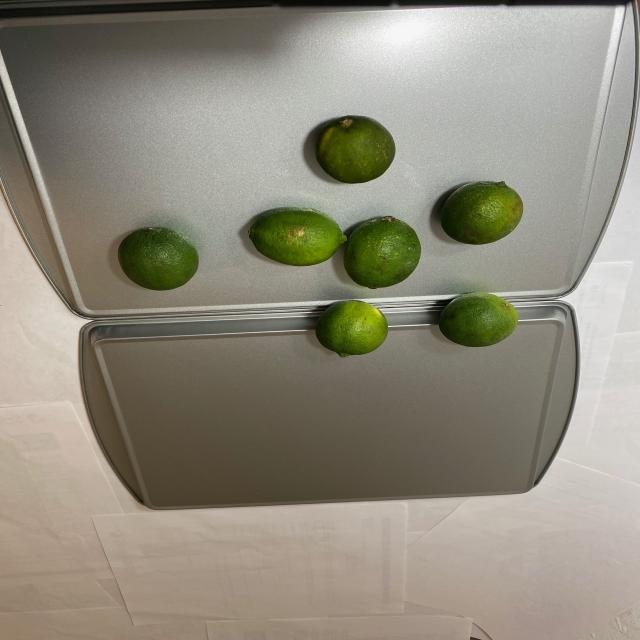lemon: (112, 110, 522, 359)
